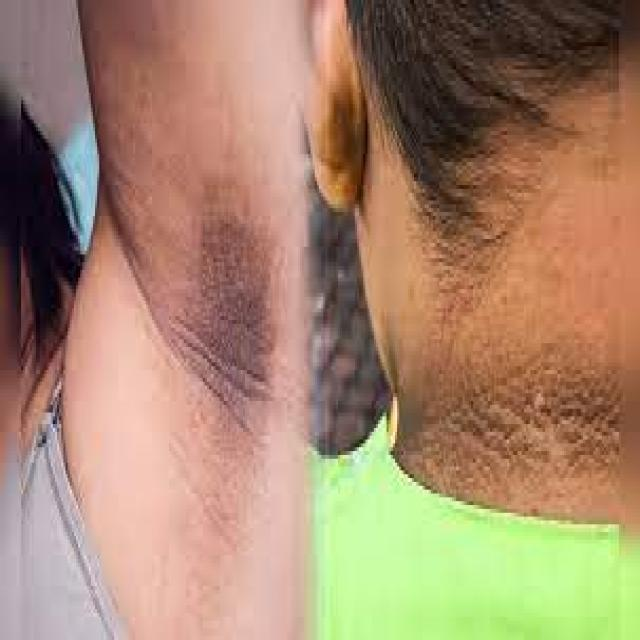Acanthosis Nigricans: (143, 160, 280, 549), (403, 307, 616, 467)
